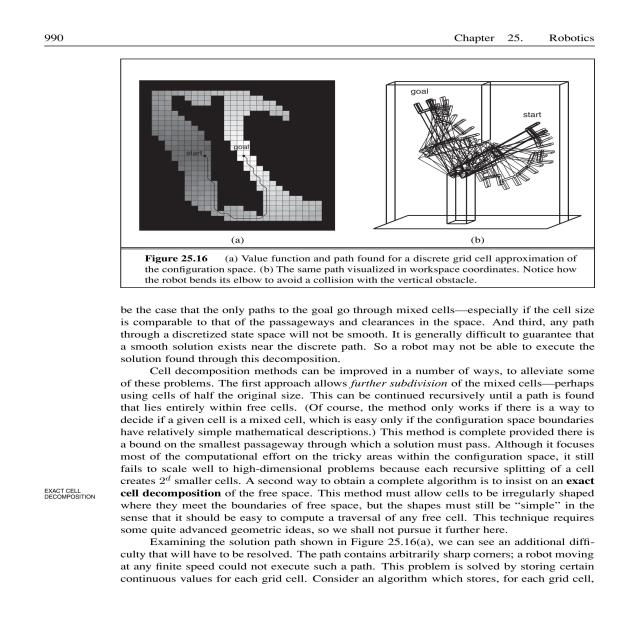diagram: (110, 56, 601, 294)
